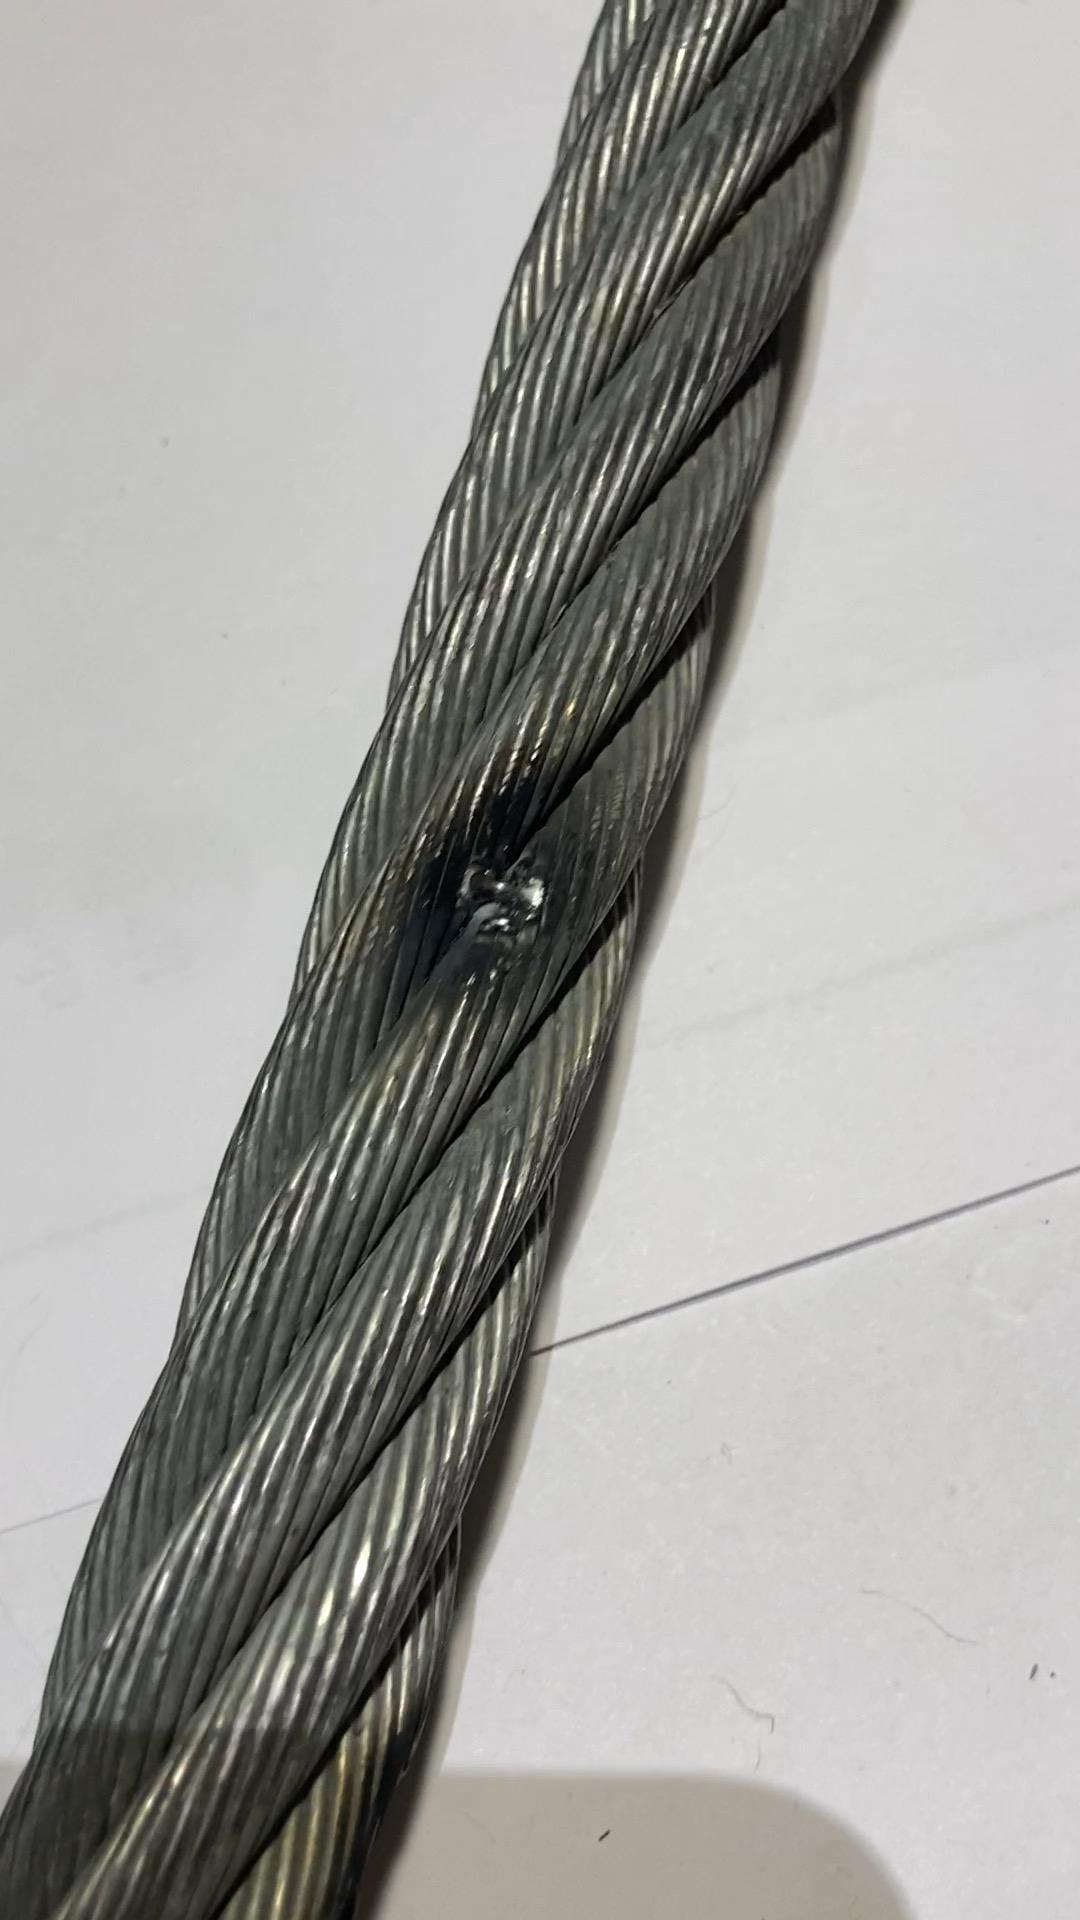thunderbolt: (407, 790, 611, 975)
